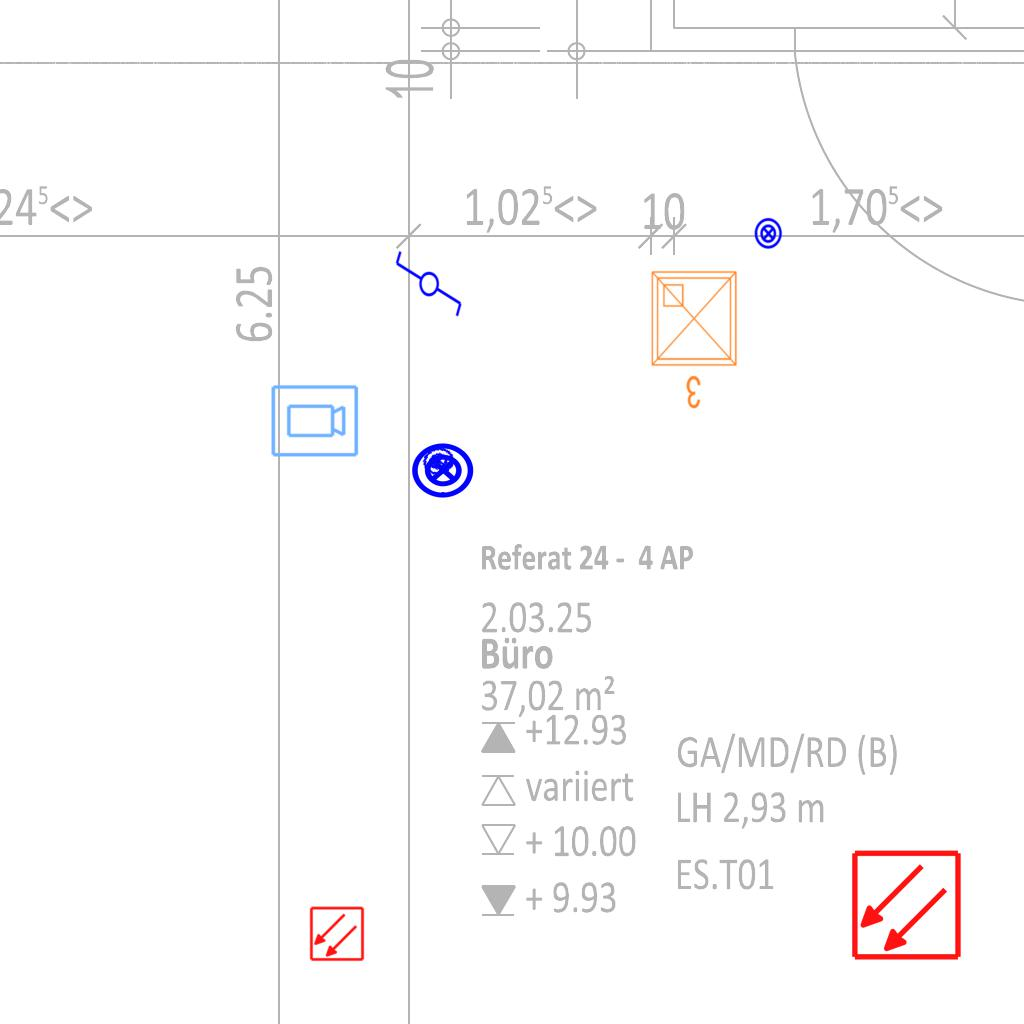Einbaudownlights_LED_Konferenzraeume: (644, 264, 748, 414)
KFO_Kamera_mit_Festobjektiv: (269, 383, 360, 460)
RMO_Rauchmelder_optischer: (850, 849, 963, 962), (309, 906, 365, 962)
Taster_beleuchtet: (410, 437, 476, 503), (418, 441, 459, 482), (752, 217, 785, 250)
Wechselschalter: (392, 249, 464, 327)
